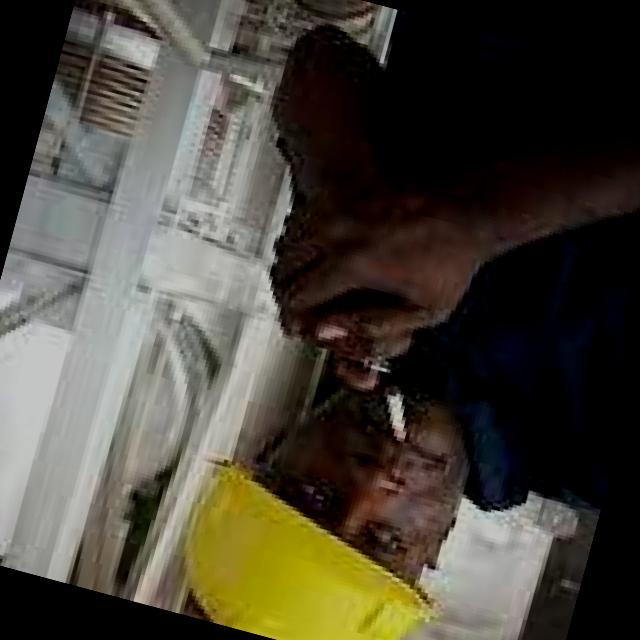smoke: (359, 373, 426, 454)
